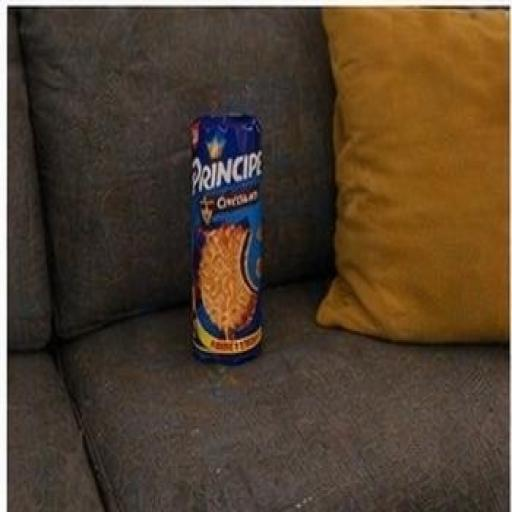prince: (152, 92, 350, 408)
